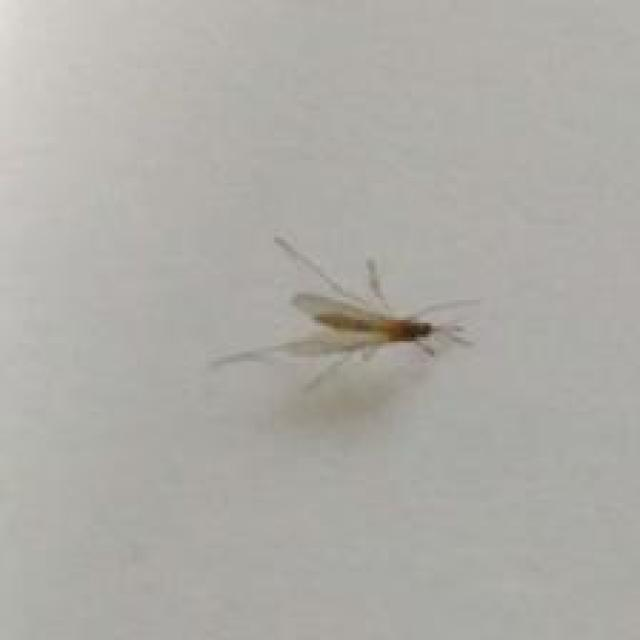Culex: (208, 234, 483, 394)
